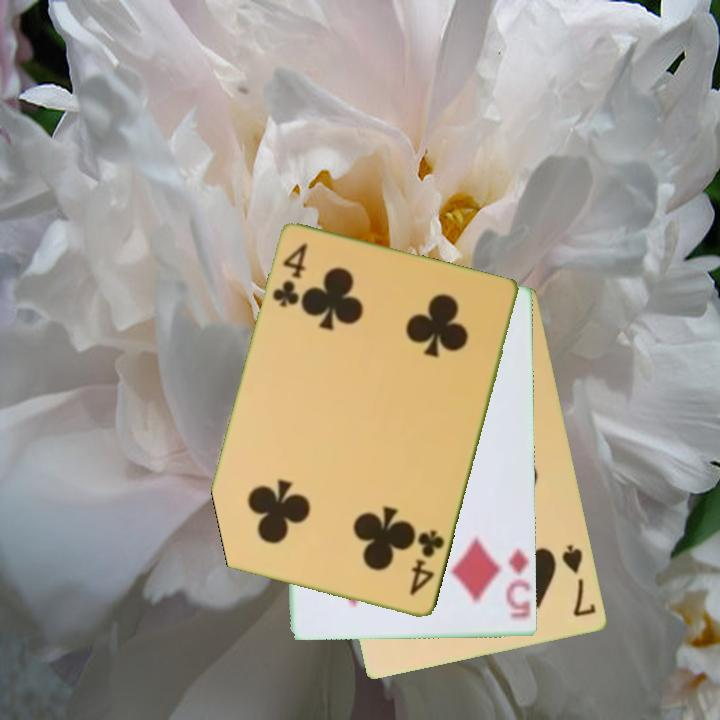4c: (406, 526, 448, 599), (269, 240, 311, 311)
5d: (502, 545, 533, 621)
7s: (559, 541, 599, 620)
